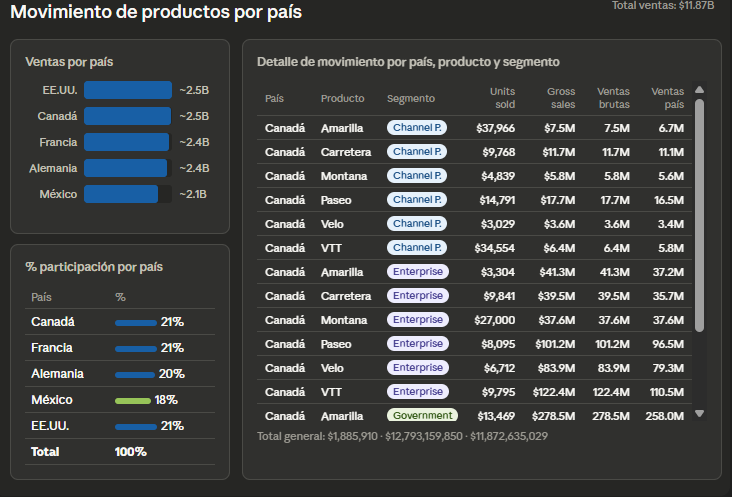

What the dashboard file says about the page in this screenshot:
{"tool":"powerbi","page":{"name":"2. Movimiento por pais","canvas":[1280,720],"ordinal":1},"visuals":[{"type":"clusteredColumnChart","title":"Ventas por País ","fields":{"Y":["staging_raw.Ventas por País"],"Category":["staging_raw.country"]},"box":[18.6,22.1,470.8,280.2],"z":0},{"type":"pivotTable","fields":{"Values":["staging_raw.% Participación País"],"Rows":["staging_raw.country"]},"box":[18.6,311.6,310.4,173.2],"z":1},{"type":"tableEx","fields":{"Values":["staging_raw.country","staging_raw.product","staging_raw.segment","Sum(staging_raw.units_sold)","Sum(staging_raw.gross_sales)","staging_raw.Ventas Brutas Total","staging_raw.Ventas por País"]},"box":[509.2,22.1,770.8,697.5],"z":2},{"type":"textbox","box":[18.6,484.8,490.6,47.7],"z":3}]}

Visuals, with their boxes on the page's 1280x720 design canvas (x1, y1, x2, y2). These are canvas units, not pixel positions in the 732x497 screenshot, which may show the page scaled, cropped or inside an application window:
"Ventas por País " clusteredColumnChart: 19:22:489:302
pivotTable - staging_raw.% Participación País x staging_raw.country: 19:312:329:485
tableEx - staging_raw.country x staging_raw.product: 509:22:1280:720
textbox: 19:485:509:532
